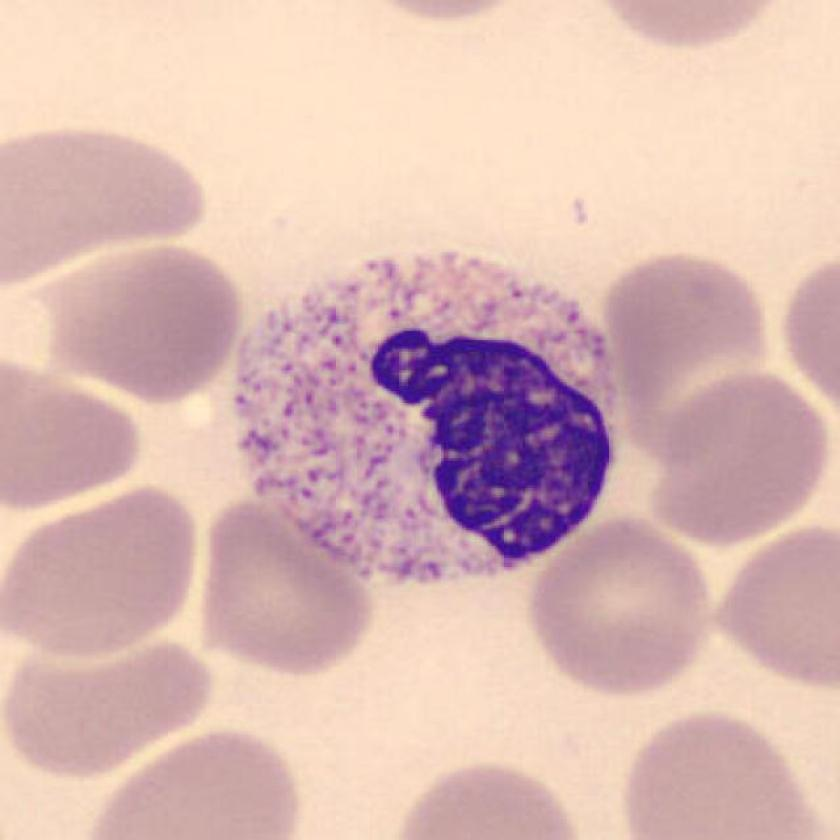neutrophil: (234, 256, 625, 588)
